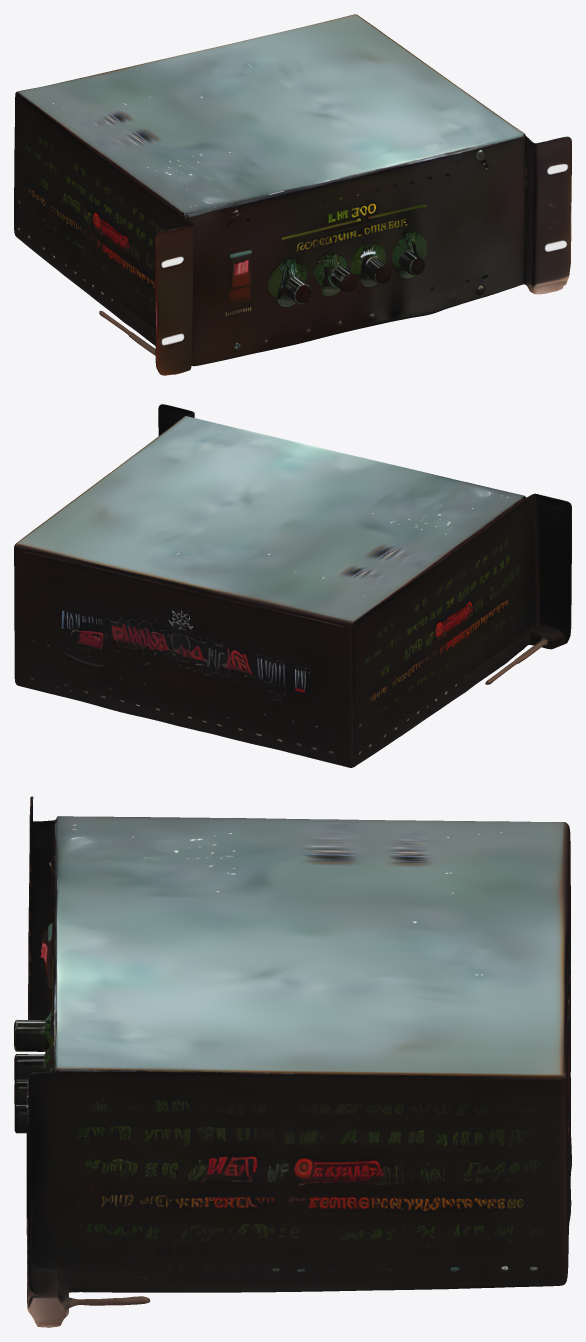
The model's file is amplificador.glb.
3 renders of one model, top to bottom at view 1: azimuth 30°, elevation 25°; view 2: azimuth 150°, elevation 25°; view 3: azimuth 270°, elevation 25°, orthographic. The views are drawn at different scales.
Parts seen in each view (by area): view 1: model; view 2: model; view 3: model.
Part boxes in pixels (x1,y1,x2,y2): model: [14, 14, 571, 375]; model: [14, 404, 571, 767]; model: [14, 796, 571, 1327].
Bounding box in the file's own units: 1.9 × 0.7034 × 1.48.
Materials: 1 (1 with a texture image).
